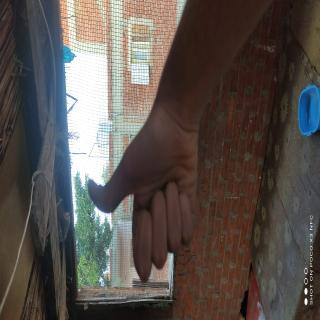ALIF: (16, 189, 94, 320)
